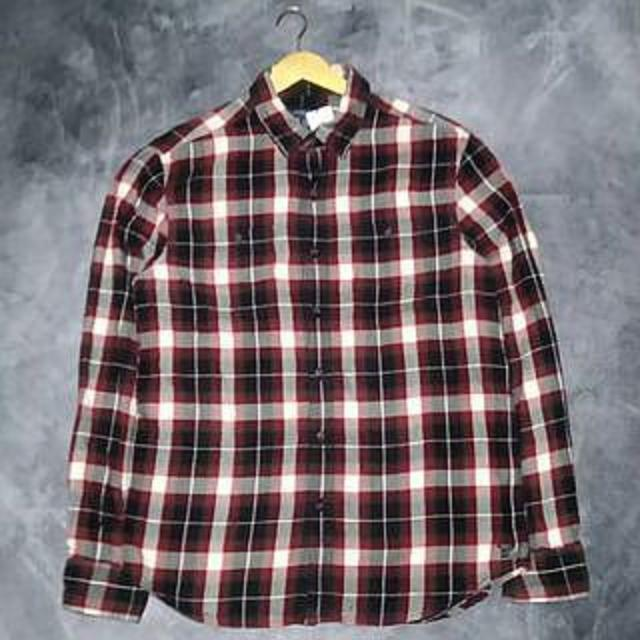SHIRT: (50, 53, 610, 633)
